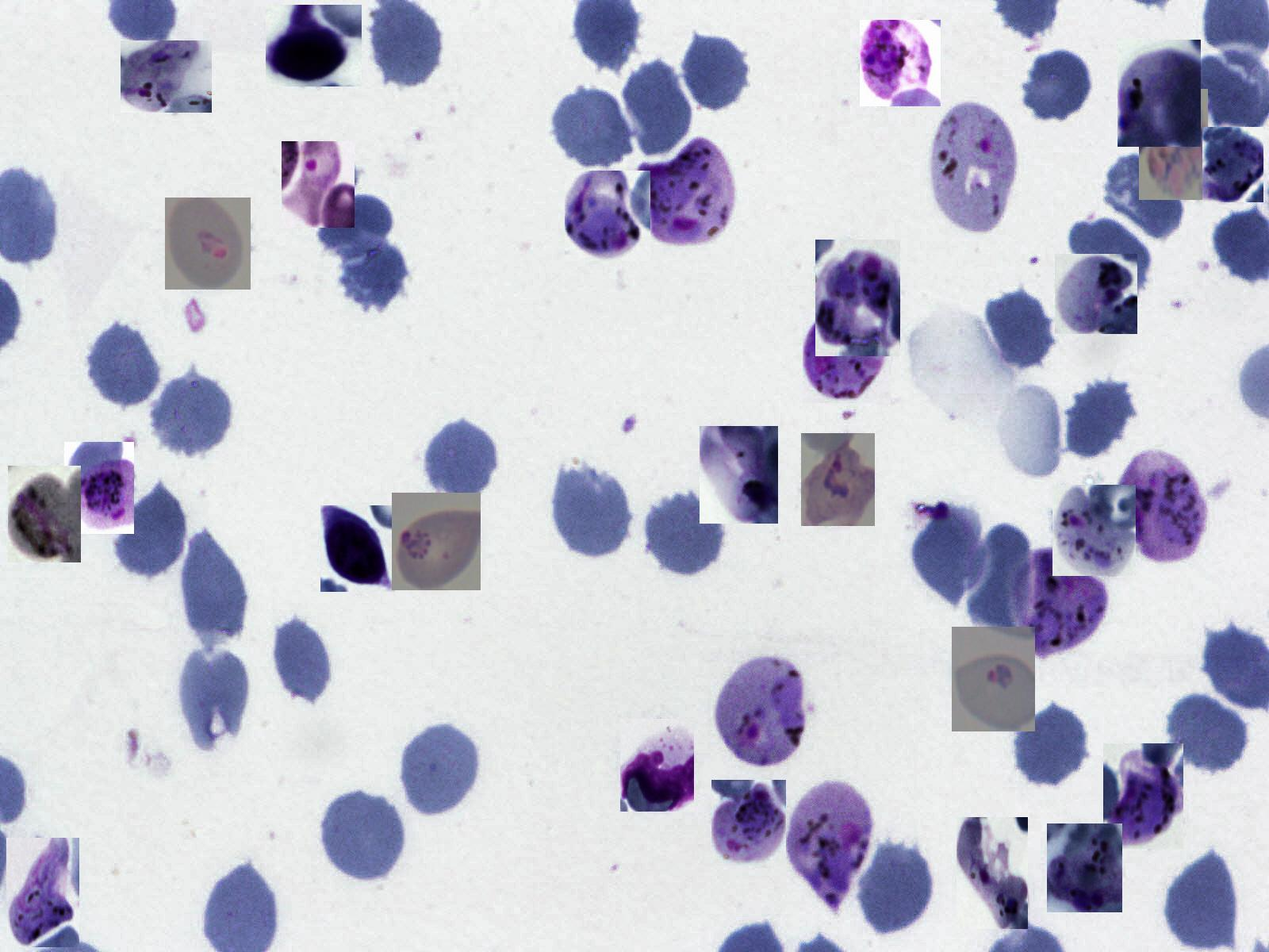Infected: (928, 103, 1020, 236), (788, 781, 873, 912), (712, 652, 808, 767), (637, 132, 731, 247), (1118, 448, 1210, 564), (1013, 545, 1108, 657), (815, 240, 900, 357), (1118, 40, 1201, 147), (392, 493, 481, 590), (952, 627, 1035, 731), (1103, 743, 1183, 849), (803, 312, 891, 403), (6, 838, 79, 947), (957, 817, 1028, 929), (165, 198, 251, 290), (266, 5, 362, 86), (1139, 89, 1208, 200), (565, 171, 650, 261), (700, 426, 778, 524), (1052, 486, 1136, 577), (860, 20, 941, 106), (9, 466, 81, 562), (620, 719, 694, 812), (801, 433, 875, 526), (1047, 823, 1122, 912), (1055, 254, 1137, 334), (121, 41, 212, 113), (320, 505, 395, 592), (712, 780, 787, 866), (64, 442, 134, 534), (282, 142, 355, 228), (1202, 128, 1263, 203)
Uninfected: (171, 524, 249, 648), (546, 455, 636, 562), (174, 639, 256, 750), (317, 786, 408, 885), (856, 833, 937, 941), (397, 719, 482, 820), (113, 475, 190, 585), (910, 504, 991, 608), (641, 485, 730, 579), (147, 368, 236, 462), (619, 56, 696, 163), (1102, 153, 1192, 243), (1166, 691, 1252, 777), (84, 318, 163, 411), (550, 85, 635, 171), (965, 524, 1030, 635), (1014, 699, 1093, 790), (1167, 848, 1238, 949), (980, 286, 1058, 374), (422, 416, 501, 502), (678, 31, 753, 116), (265, 615, 335, 706), (1065, 374, 1136, 462), (1068, 217, 1150, 292), (1021, 45, 1098, 123), (336, 238, 410, 313), (313, 191, 394, 259)
